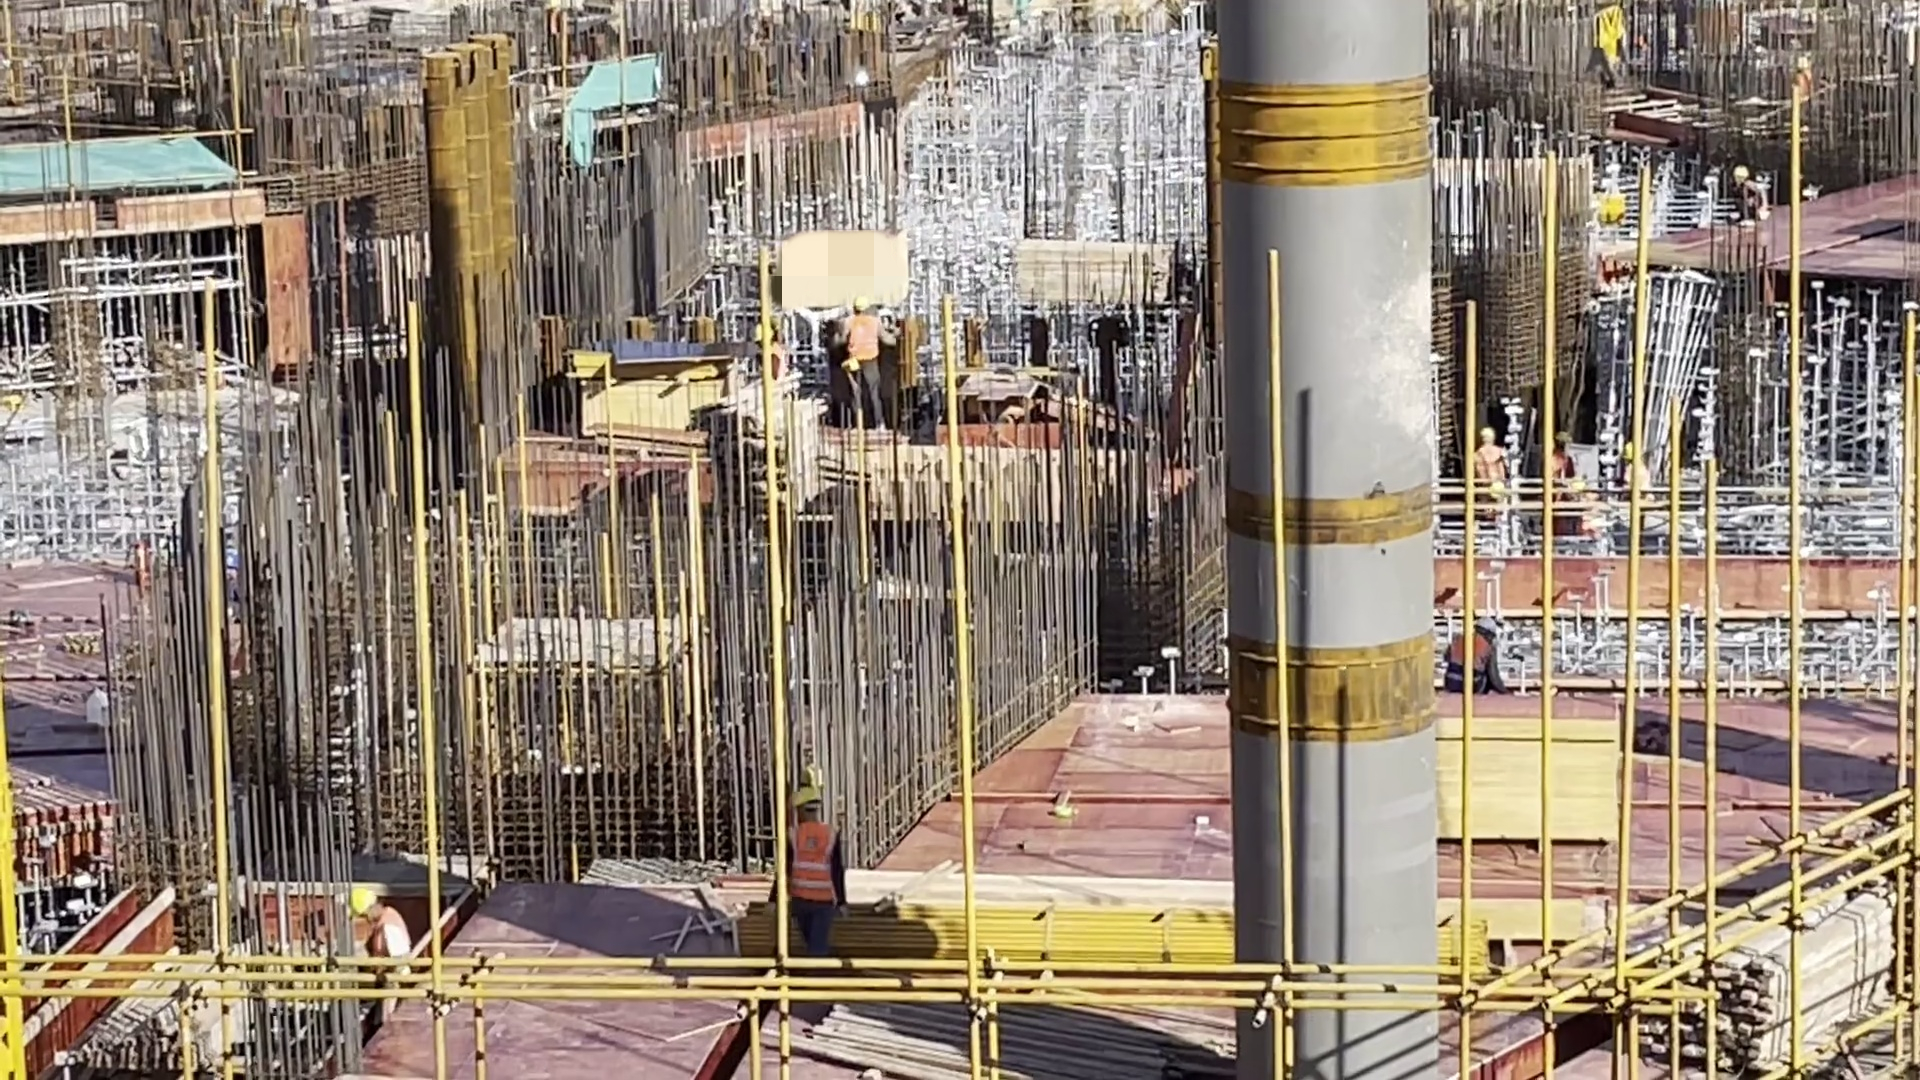helmet: (779, 776, 830, 814), (340, 887, 389, 918), (1472, 618, 1505, 649), (1476, 416, 1502, 449), (1547, 429, 1574, 452), (845, 294, 871, 317), (1617, 437, 1638, 460)
person: (776, 786, 854, 950), (831, 290, 906, 433), (342, 889, 422, 974), (1447, 605, 1511, 689), (1539, 424, 1589, 527), (1462, 425, 1521, 512)
vest: (793, 820, 838, 912), (847, 327, 888, 376)
